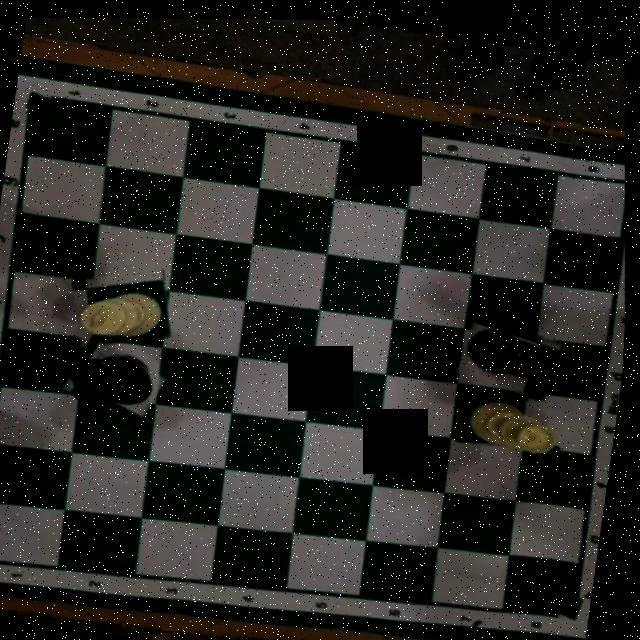chess-table-corners: (555, 584, 598, 633), (14, 74, 55, 116)
